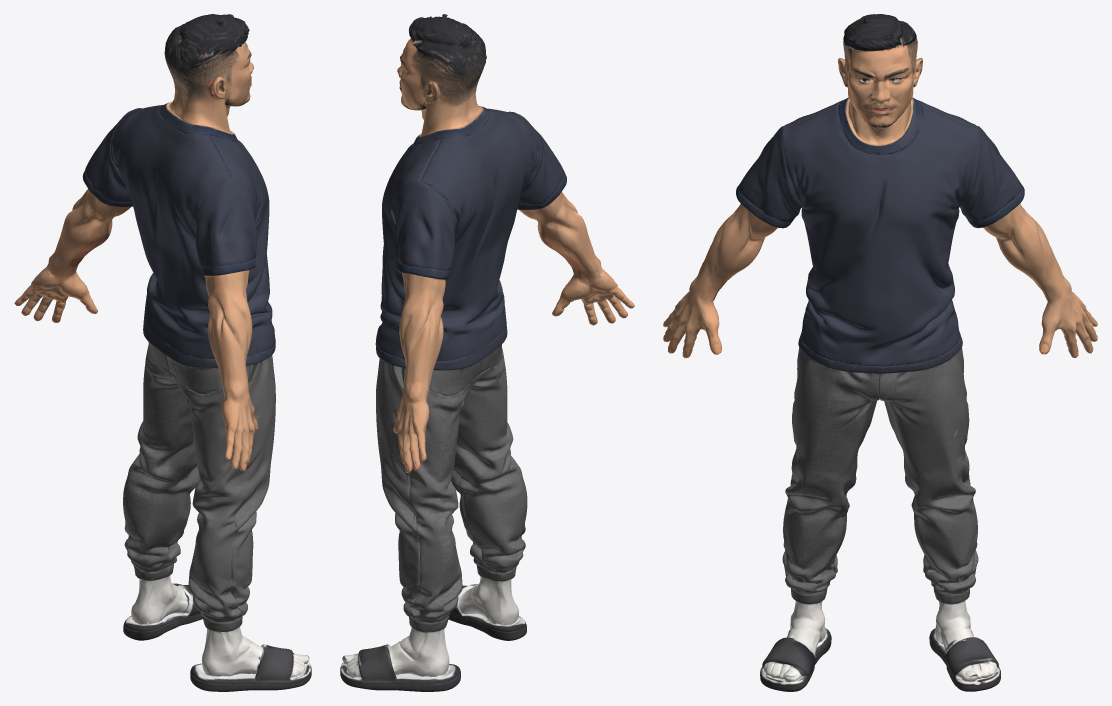
Rendered from jinsoo_son_v2_tripo.glb.
The picture shows the model from 3 angles, left to right: view 1: azimuth 30°, elevation 25°; view 2: azimuth 150°, elevation 25°; view 3: azimuth 270°, elevation 25°; orthographic projection. The views are drawn at different scales.
Visible parts, largest first — view 1: tripo_node_0c92e96f-30af-4c30-8f42-057b6fa2f873; view 2: tripo_node_0c92e96f-30af-4c30-8f42-057b6fa2f873; view 3: tripo_node_0c92e96f-30af-4c30-8f42-057b6fa2f873.
Part boxes in pixels (bbox=[...]): tripo_node_0c92e96f-30af-4c30-8f42-057b6fa2f873: bbox=[14, 14, 311, 691]; tripo_node_0c92e96f-30af-4c30-8f42-057b6fa2f873: bbox=[340, 14, 634, 691]; tripo_node_0c92e96f-30af-4c30-8f42-057b6fa2f873: bbox=[663, 14, 1097, 691].
Bounding box in the file's own units: 0.2335 × 0.9806 × 0.5936.
Materials: 1 (1 with a texture image).
